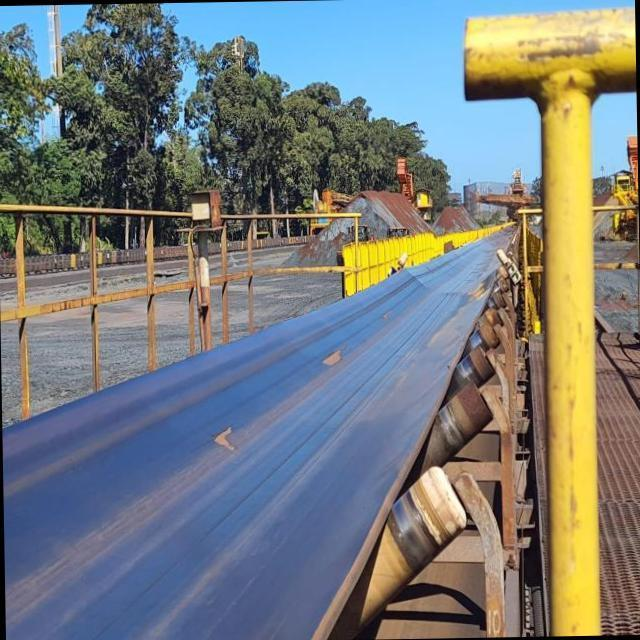Tear: (202, 422, 248, 462), (313, 345, 344, 373)
